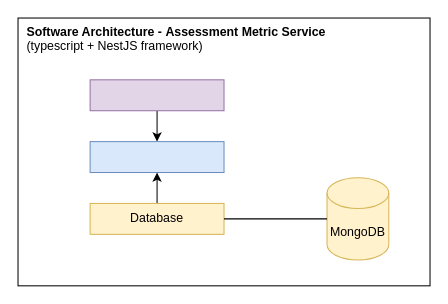
This 448x304 diagram has some shape labels left out. Each missing label, with the centre of its shape:
"API" goes at point (156, 95).
"Business Logic" goes at point (156, 157).
